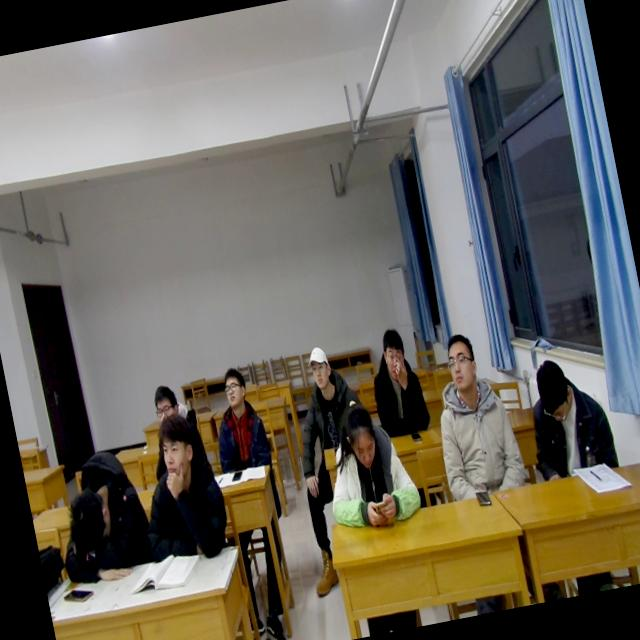bow: (41, 441, 160, 596)
down: (337, 393, 388, 477), (528, 352, 578, 432)
lookup: (150, 408, 198, 486), (439, 326, 482, 397), (374, 321, 414, 392), (144, 371, 181, 426), (301, 341, 338, 396), (216, 364, 249, 412)
sit: (418, 324, 532, 508), (128, 410, 235, 569), (312, 390, 424, 536), (516, 344, 623, 490), (284, 340, 367, 454), (360, 322, 436, 444), (200, 362, 273, 474), (142, 376, 206, 464)
